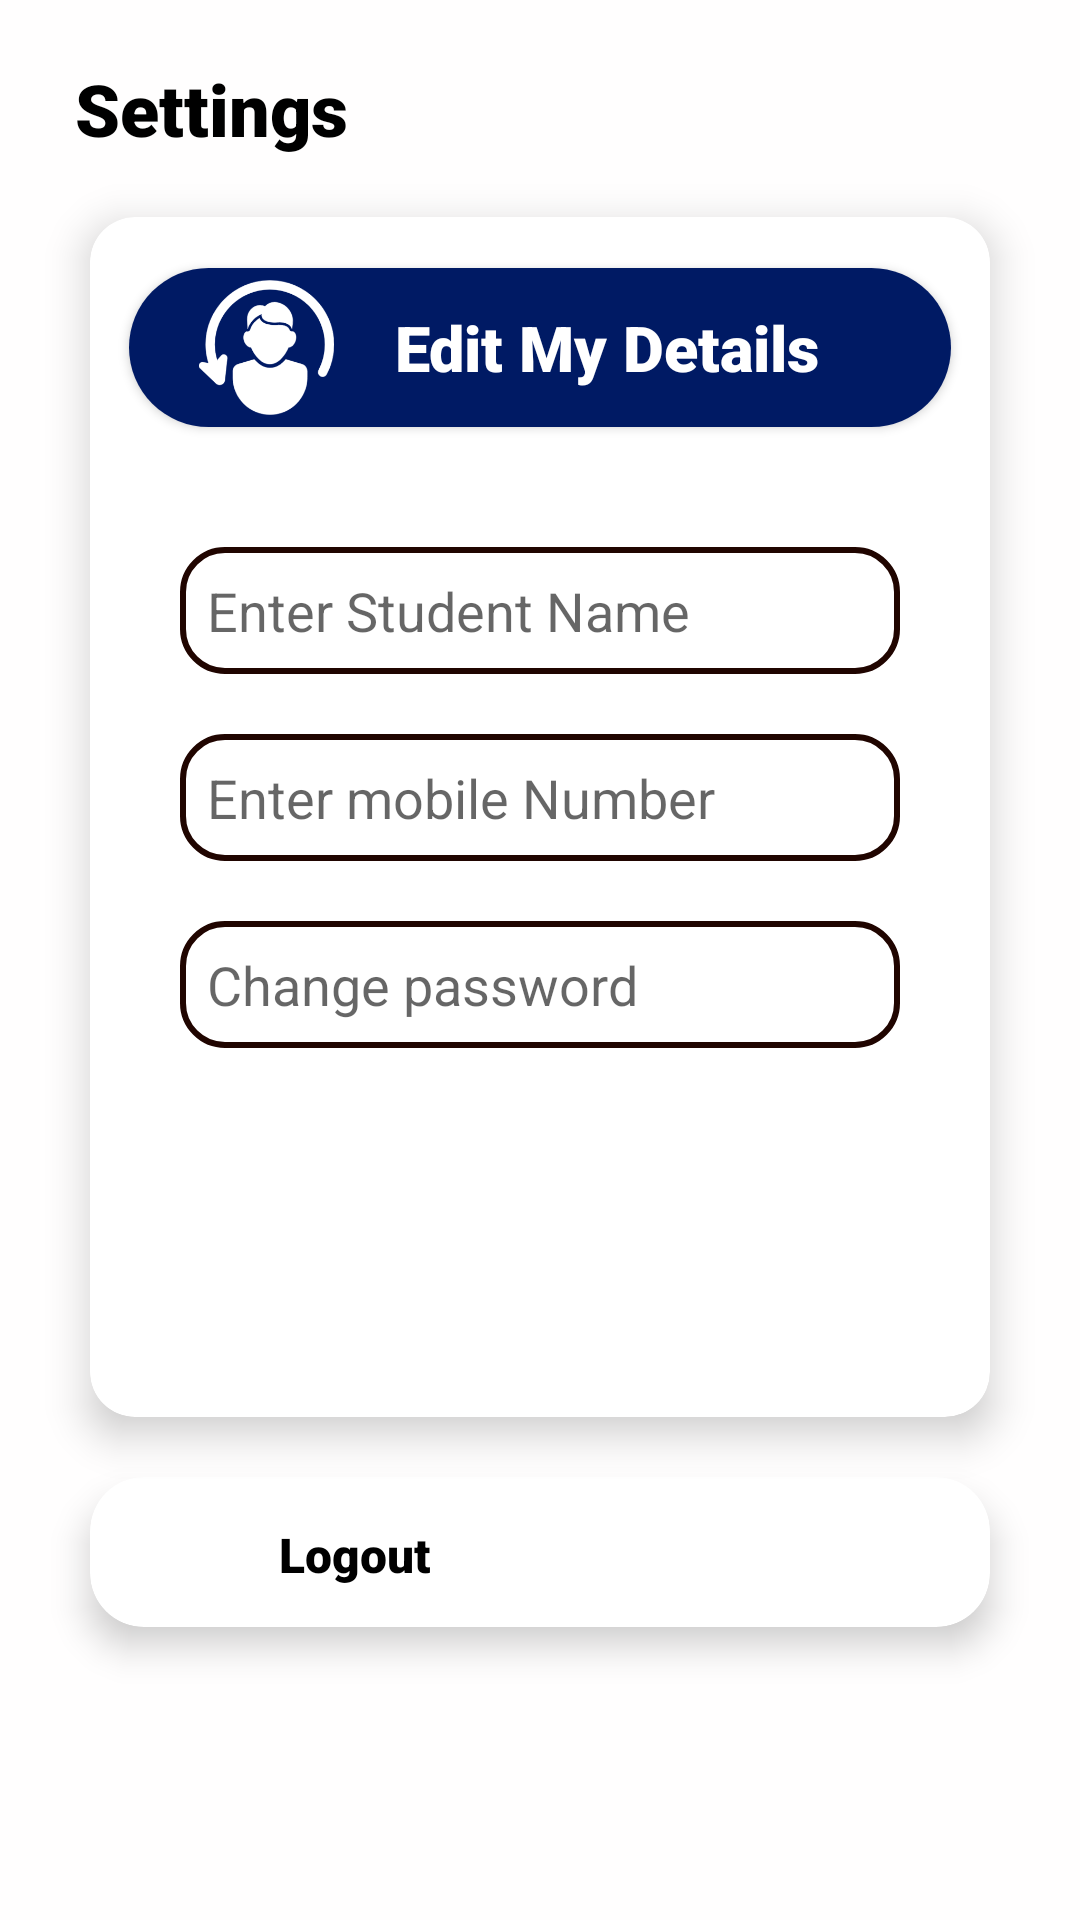

Named icons in this screenshot (1080×1920) and their bounding boxes, region(x1, y1, x2, y2):
updatestaff: region(199, 280, 334, 415)
